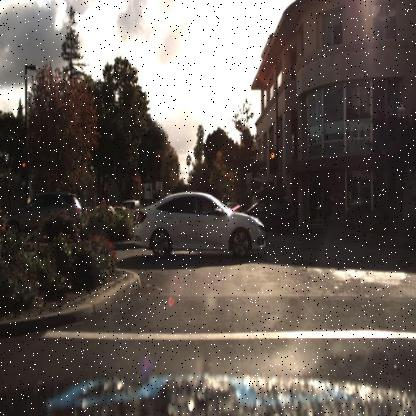car: (133, 195, 268, 258), (4, 190, 84, 242), (241, 187, 294, 237), (16, 191, 82, 223)
trafficLight: (20, 156, 28, 176)
trafficLight-Red: (154, 150, 162, 176), (268, 148, 276, 174), (155, 144, 162, 165)
